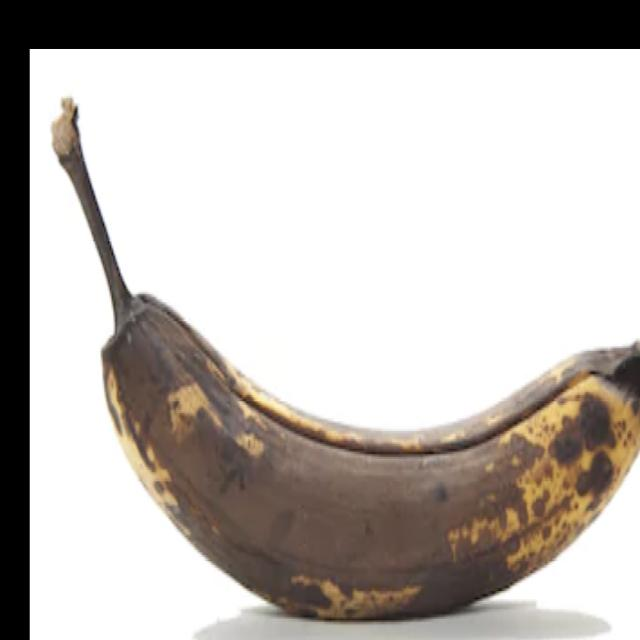Rotten: (44, 92, 640, 637)
